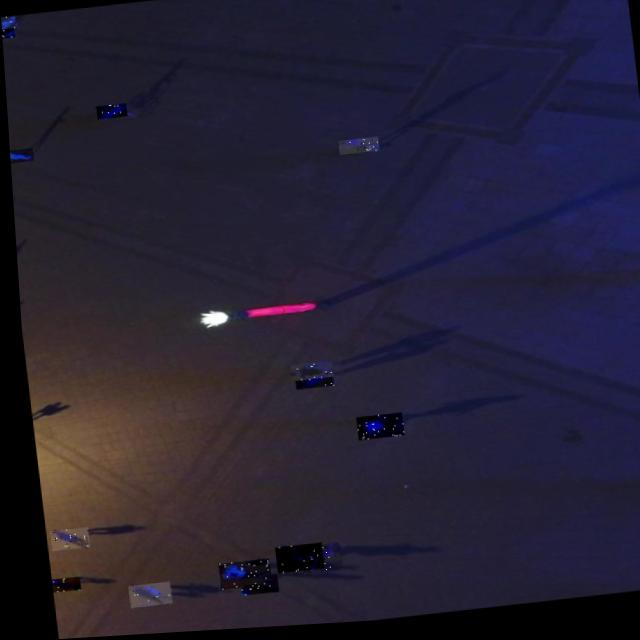Person: (210, 560, 263, 592), (267, 545, 316, 575), (290, 545, 334, 576), (350, 416, 398, 443), (120, 582, 164, 608), (42, 527, 82, 551), (285, 364, 329, 384), (232, 575, 271, 597), (289, 373, 329, 392), (336, 140, 378, 158), (94, 103, 126, 120), (43, 576, 73, 591), (8, 147, 32, 163), (1, 19, 15, 38), (132, 594, 154, 606), (1, 14, 16, 29)
